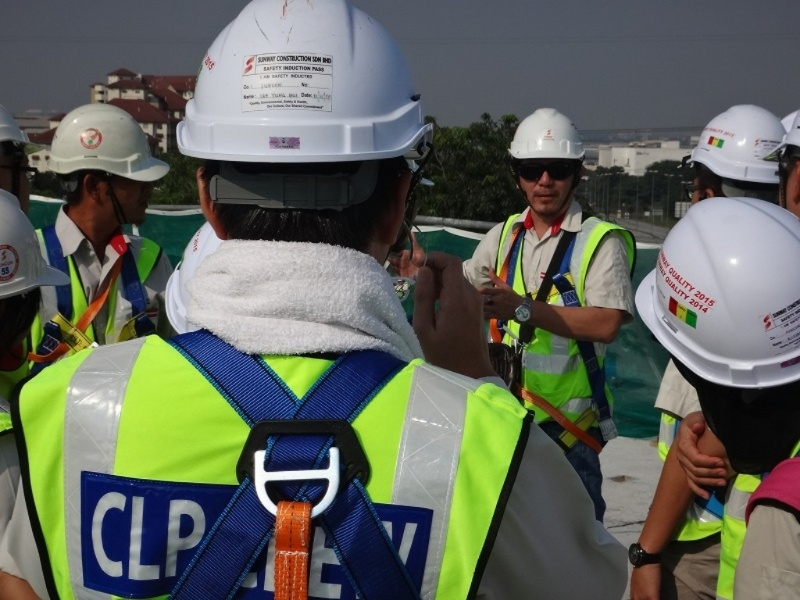Baret: (177, 1, 437, 171), (634, 192, 800, 389), (46, 104, 171, 188), (685, 99, 790, 187), (509, 105, 587, 162)
